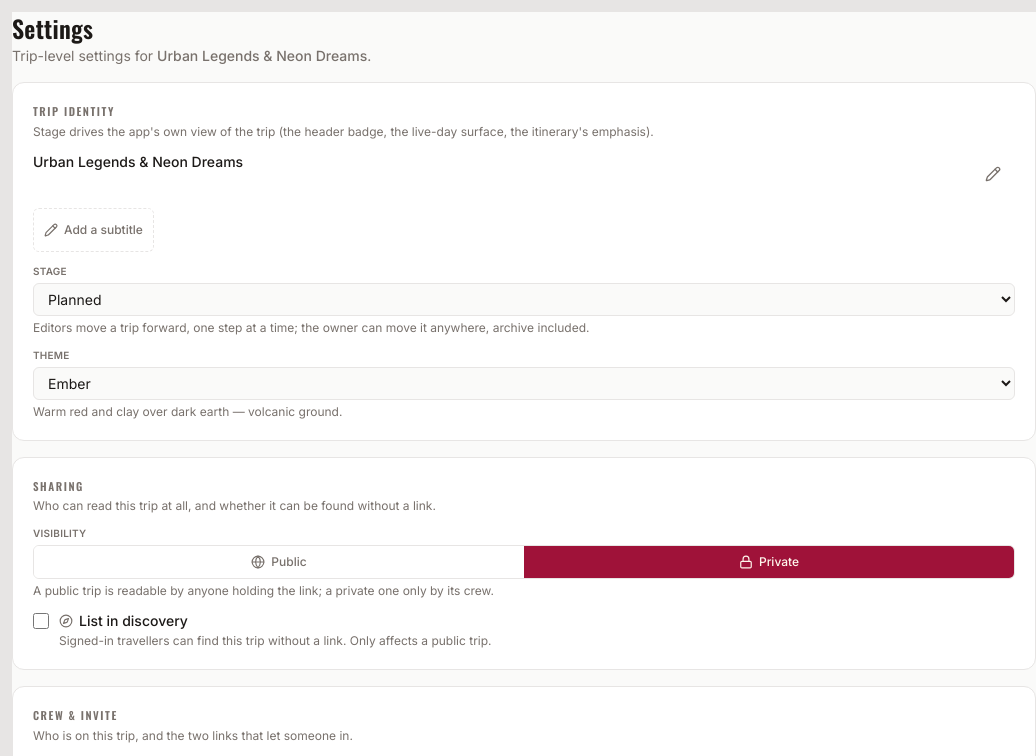
SettingsPage — sharing (owner only) › a rejected write surfaces the server's refusal and rolls the doc back
Click the button "Public". click: (279, 562)
box: [34, 546, 524, 578]
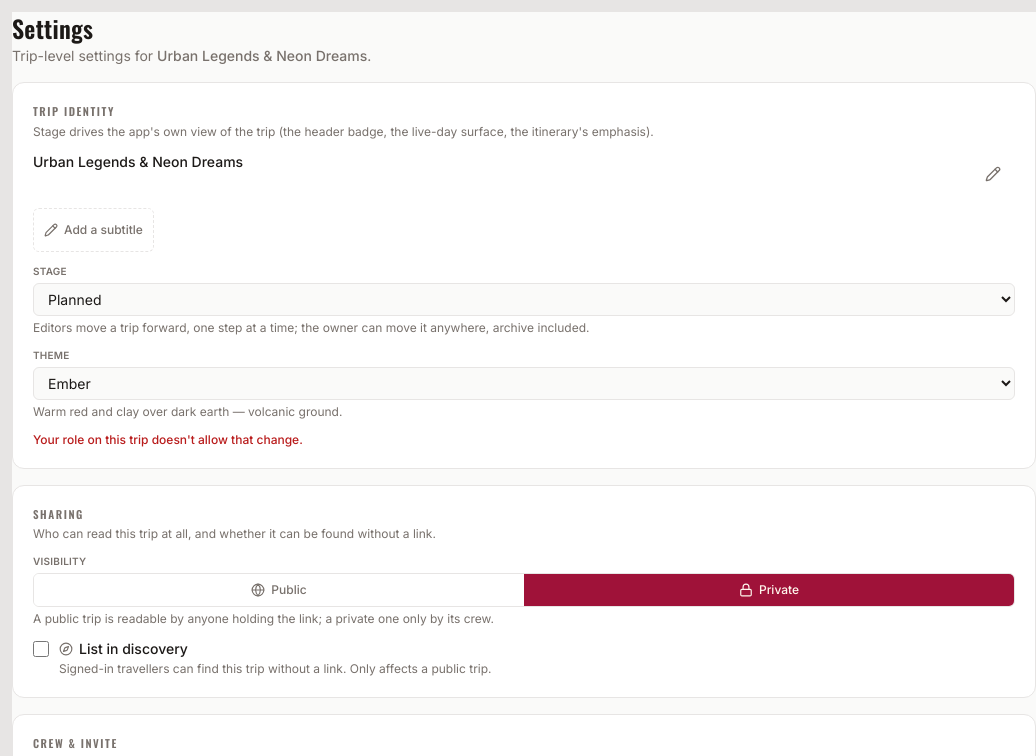
Check: the text "Your role on this trip doesn't allow that change." is shown, box [33, 432, 303, 446]
